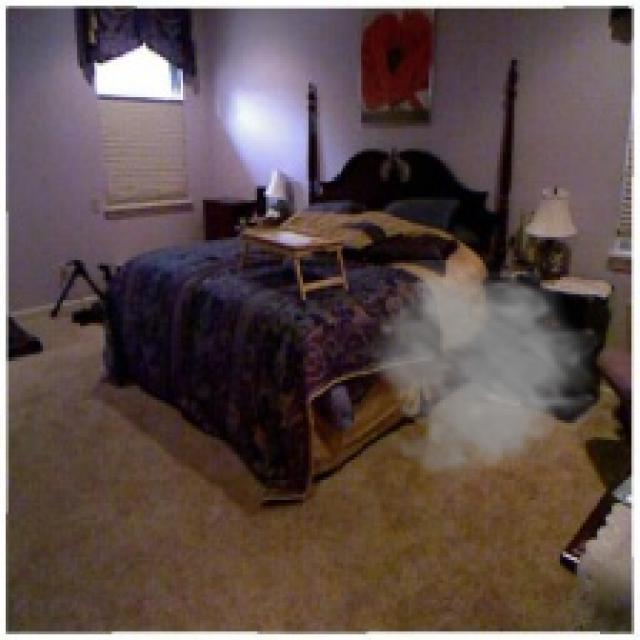Smoke: (363, 259, 606, 492)
